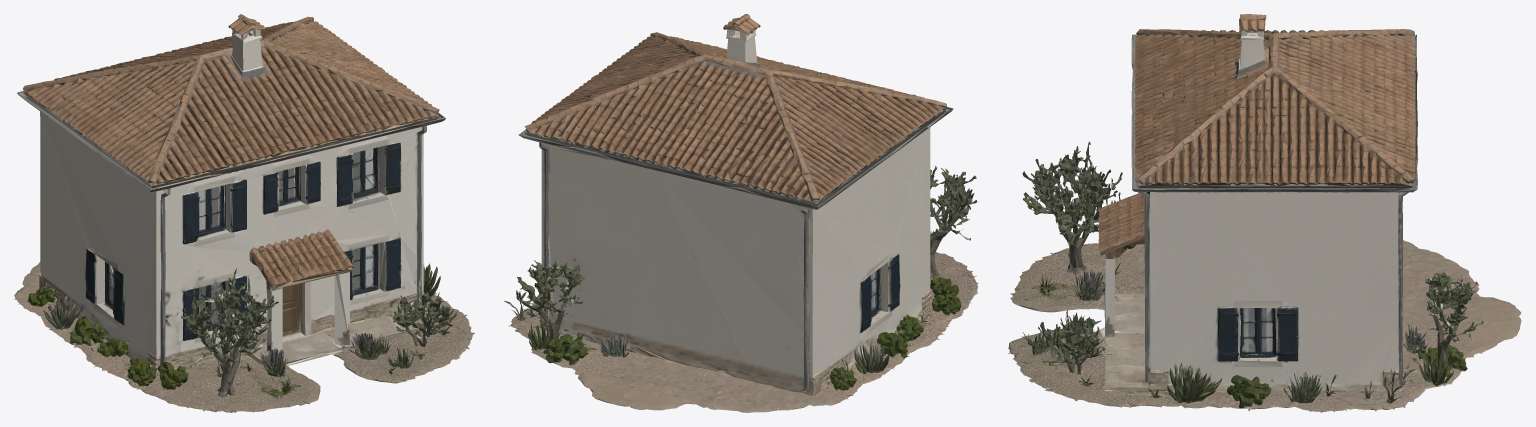
The model's file is maison.glb.
3 renders of one model, left to right at view 1: azimuth 30°, elevation 25°; view 2: azimuth 150°, elevation 25°; view 3: azimuth 270°, elevation 25°, orthographic. The views are drawn at different scales.
Parts seen in each view (by area): view 1: Mesh_0; view 2: Mesh_0; view 3: Mesh_0.
Boxes of the visible parts, x1,y1,x2,y2 form: Mesh_0: [14, 14, 474, 412]; Mesh_0: [504, 14, 978, 412]; Mesh_0: [1008, 14, 1521, 412].
Size of the model in its own units: 1.56 by 1.27 by 1.9.
1 material, 1 textured.
